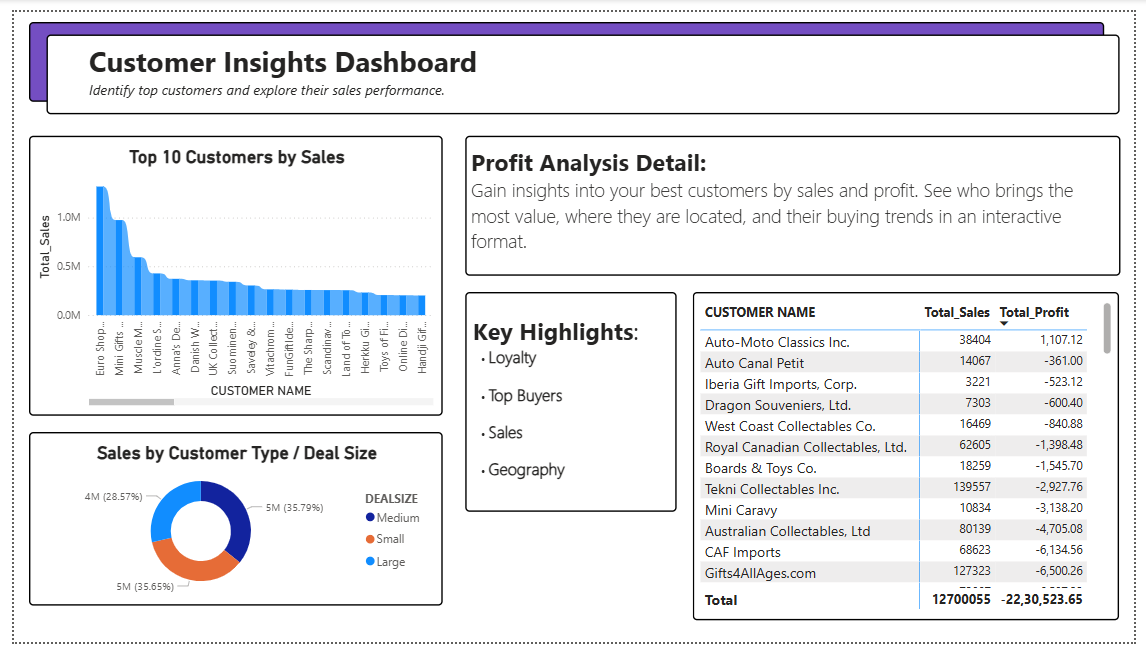

The page's visual inventory and layout, read from the dashboard file:
{"tool":"powerbi","page":{"name":"Page 4","canvas":[1280,720],"ordinal":3},"visuals":[{"type":"textbox","box":[17.5,11.2,1228.8,91.2],"z":0},{"type":"textbox","box":[37.5,25,1226.2,91.2],"z":1000},{"type":"textbox","box":[515,141.2,748.8,160],"z":2000},{"type":"ribbonChart","title":"Top 10 Customers by Sales","fields":{"Category":["Customers.CUSTOMER NAME"],"Y":["Final_sales.Total_Sales"]},"box":[17.5,141.2,472.5,320],"z":3000},{"type":"donutChart","title":"Sales by Customer Type / Deal Size","fields":{"Category":["Customers.DEALSIZE"],"Y":["Final_sales.Total_Sales"]},"box":[17.5,480,472.5,198.8],"z":4000},{"type":"pivotTable","fields":{"Rows":["Customers.CUSTOMER NAME"],"Values":["Final_sales.Total_Sales","Final_sales.Total_Profit"]},"box":[776.2,320,487.5,375],"z":5000},{"type":"textbox","box":[515,320,241.2,251.2],"z":6000}]}

Visuals, with their boxes in screenshot pixels (x1, y1, x2, y2):
textbox: 21,19,1106,99
textbox: 39,31,1122,112
textbox: 461,134,1122,275
"Top 10 Customers by Sales" ribbonChart: 21,134,439,416
"Sales by Customer Type / Deal Size" donutChart: 21,433,439,608
pivotTable - Customers.CUSTOMER NAME x Final_sales.Total_Sales: 691,291,1122,623
textbox: 461,291,674,513
